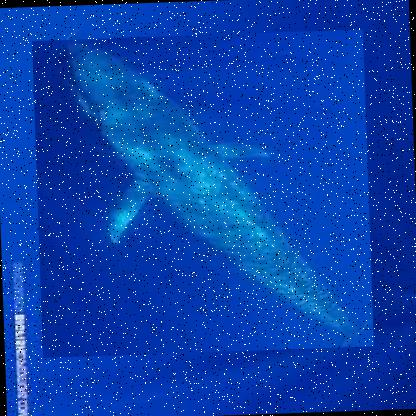blue_whale: (32, 29, 376, 358)
